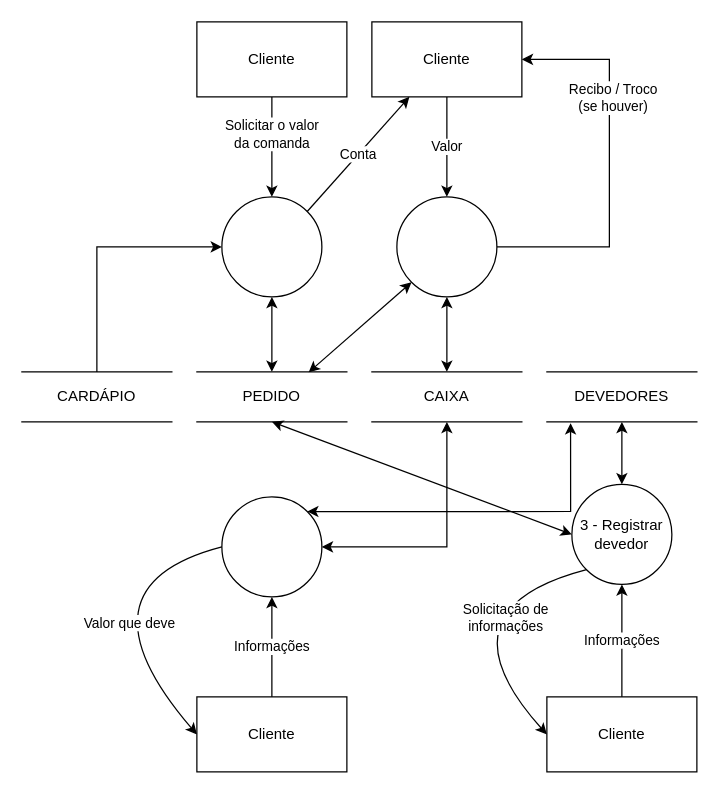
Image size: 719x794. Some labels were removed from this diagram. The shapes that lost their labels are listed below. From the top down, each one's centre as x and y in pixels, then its label:
the point at 271,246: 1 - Calcular valor total do pedido
the point at 446,246: 2 - Receber pagamento
the point at 271,546: 4- Cobrar devedor
